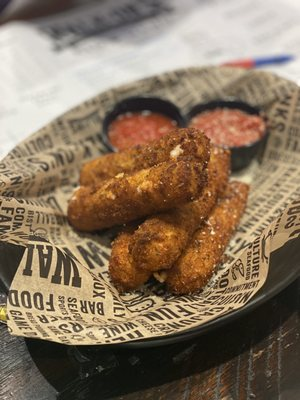sushi: (66, 128, 250, 296)
